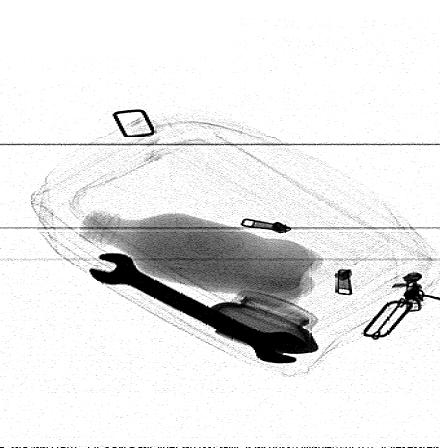Wrench: (84, 253, 309, 366)
